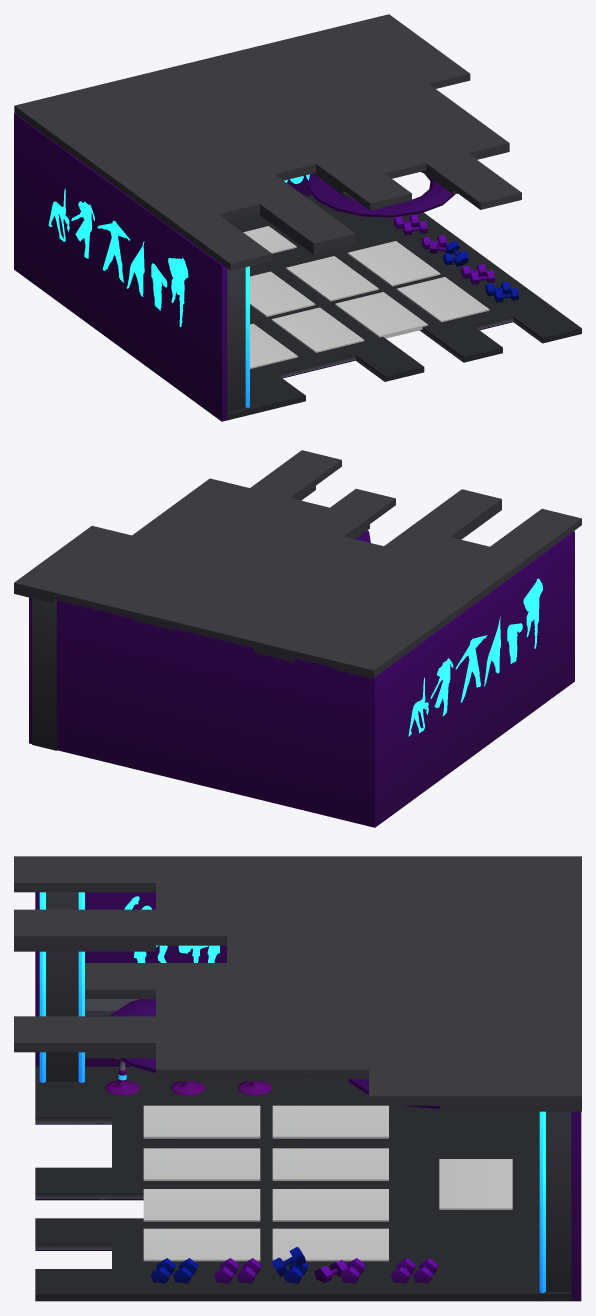
The model's file is escenario.hiit.fbx.
3 views of the same model, one above another, from view 1: azimuth 30°, elevation 25°; view 2: azimuth 150°, elevation 25°; view 3: azimuth 270°, elevation 25° (orthographic). The views are drawn at different scales.
Visible parts, largest first — view 1: Cube.001, Cube, Text.003, Cube.006, Torus.003, Cube.017, Cube.014, Cube.018, Cube.013, Cube.016, Cube.012, Cube.015 (+1 smaller); view 2: Cube, Cube.001, Cube.006, Text.003; view 3: Cube.001, Cube, Cube.006, Cube.015, Cube.008, Cube.018, Cube.016, Cube.017, Cube.012, Cube.013, Cube.002, Cube.014 (+4 smaller).
Part boxes in pixels (bbox=[...]): Cube.001: bbox=[14, 14, 521, 270]; Cube: bbox=[14, 113, 581, 421]; Text.003: bbox=[48, 188, 188, 326]; Cube.006: bbox=[227, 266, 249, 411]; Torus.003: bbox=[308, 171, 454, 217]; Cube.017: bbox=[335, 292, 427, 338]; Cube.014: bbox=[347, 241, 440, 286]; Cube.018: bbox=[396, 277, 489, 322]; Cube.013: bbox=[286, 256, 378, 301]; Cube.016: bbox=[271, 307, 364, 352]; Cube.012: bbox=[250, 271, 315, 316]; Cube.015: bbox=[250, 323, 297, 368]; Cube: bbox=[29, 531, 574, 827]; Cube.001: bbox=[14, 450, 581, 678]; Cube.006: bbox=[32, 598, 56, 750]; Text.003: bbox=[408, 578, 542, 736]; Cube.001: bbox=[14, 856, 581, 1111]; Cube: bbox=[35, 892, 581, 1301]; Cube.006: bbox=[39, 892, 571, 1301]; Cube.015: bbox=[143, 1105, 260, 1138]; Cube.008: bbox=[272, 1105, 388, 1138]; Cube.018: bbox=[143, 1228, 260, 1261]; Cube.016: bbox=[143, 1148, 260, 1180]; Cube.017: bbox=[143, 1189, 260, 1221]; Cube.012: bbox=[272, 1148, 388, 1180]; Cube.013: bbox=[272, 1189, 388, 1221]; Cube.002: bbox=[439, 1159, 512, 1209]; Cube.014: bbox=[272, 1228, 388, 1261].
Bounding box in the file's own units: 1151 × 481 × 1148.
1 material, 1 textured.
